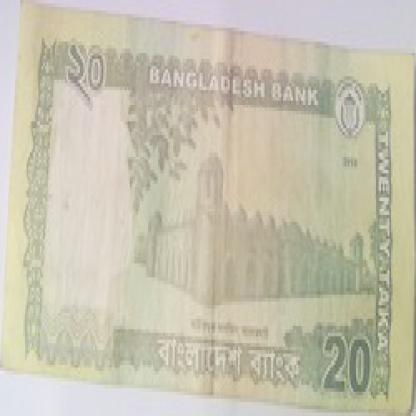Twenty: (321, 319, 373, 412), (60, 38, 125, 101)
